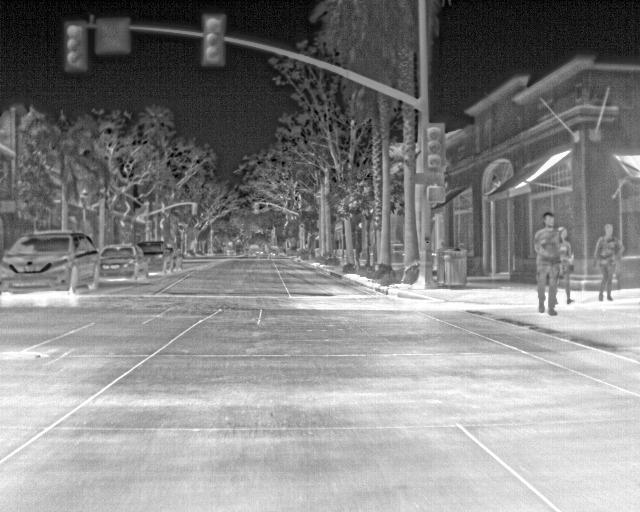bicycle: (2, 230, 102, 294), (99, 243, 149, 282), (137, 240, 179, 276)
empty: (533, 210, 563, 316), (595, 222, 617, 302), (557, 226, 576, 304)
